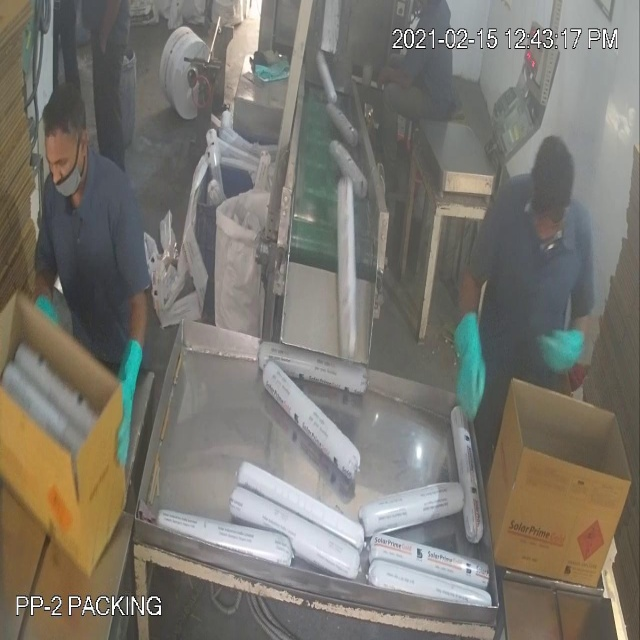Guantes: (104, 320, 145, 478), (450, 309, 494, 431)
Sin_guantes: (359, 50, 423, 112)
